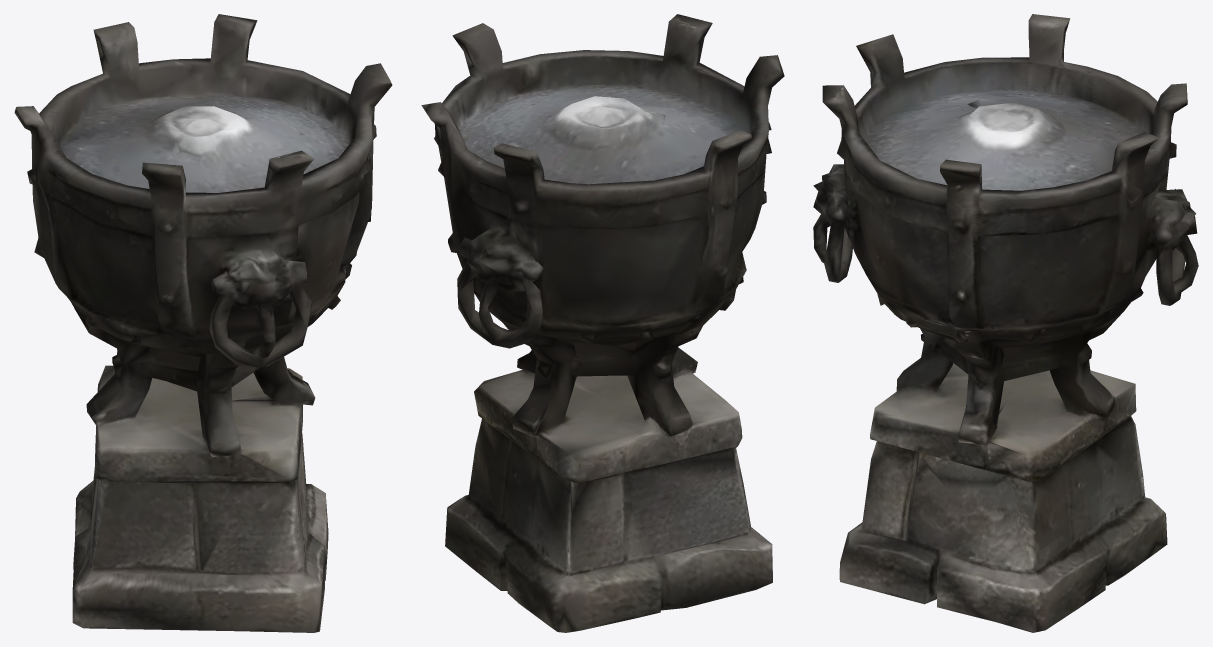
File: beacon.glb
The picture shows the model from 3 angles, left to right: view 1: azimuth 30°, elevation 25°; view 2: azimuth 150°, elevation 25°; view 3: azimuth 270°, elevation 25°; orthographic projection. The views are drawn at different scales.
Parts seen in each view (by area): view 1: beacon_cauldron; view 2: beacon_cauldron; view 3: beacon_cauldron.
Boxes of the visible parts, box(x1,y1,x2,y2) form: beacon_cauldron: box(14, 14, 392, 632); beacon_cauldron: box(421, 14, 784, 632); beacon_cauldron: box(813, 14, 1198, 632).
Bounding box in the file's own units: 0.1853 × 0.2622 × 0.1919.
1 material, 1 textured.
